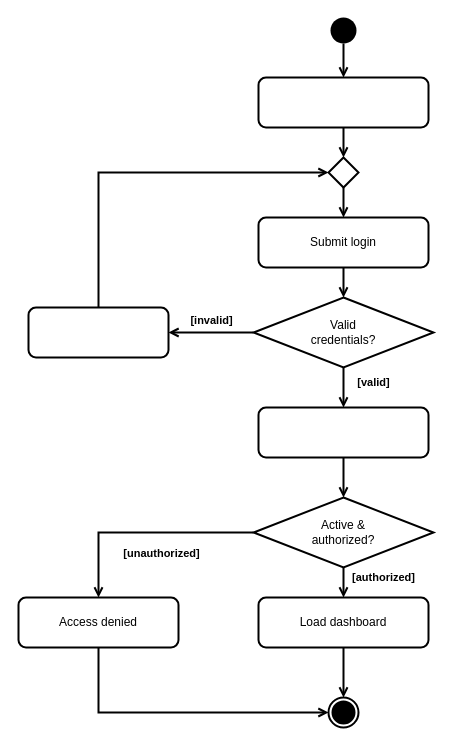
Image size: 451x745. Some labels were removed from this diagram. Here are the shapes that lost their labels. From the top down, the centre of each, then its label:
At pixel 343 102: "Select school & enter credentials".
At pixel 98 332: "Show error".
At pixel 343 432: "Verify portal account".
